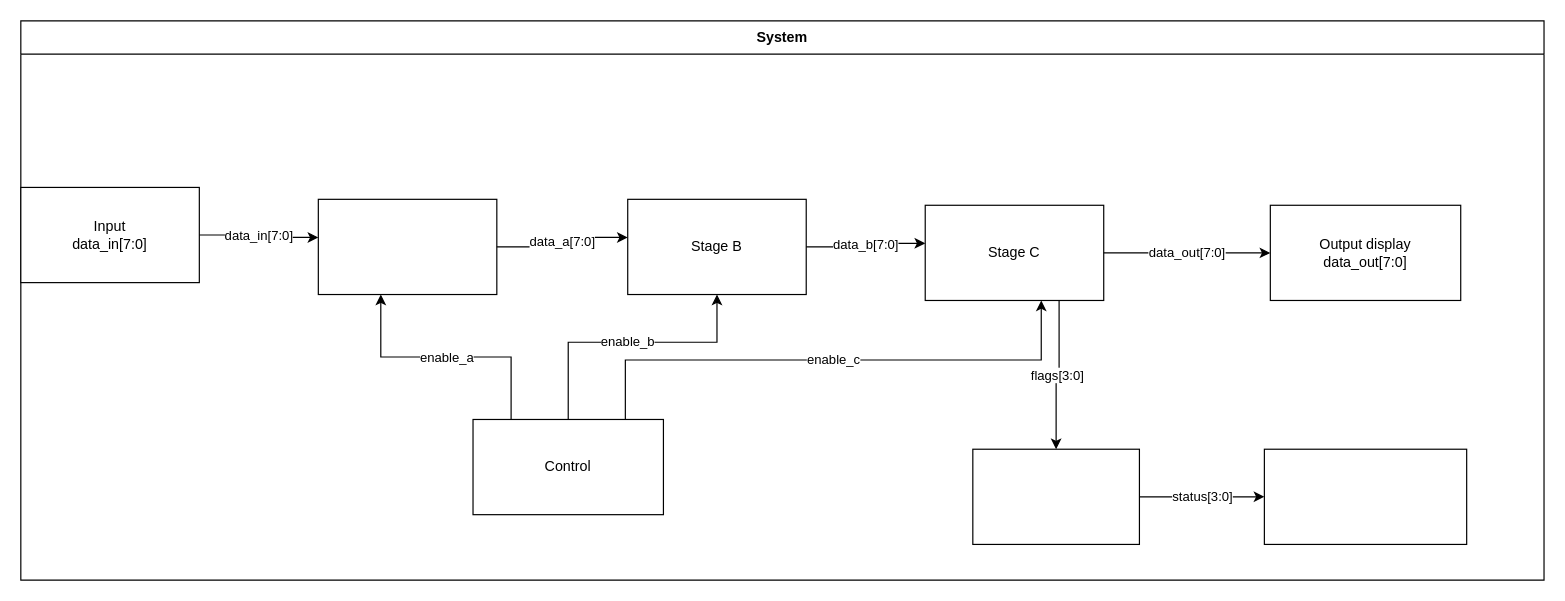
Some shapes in this 1565 by 601 pixel diagram are drawn without their labels. The centre of each missing label's shape, as x and y in pixels:
Stage A: point 407,246
Status: point 1055,496
Status Output: point 1365,496
